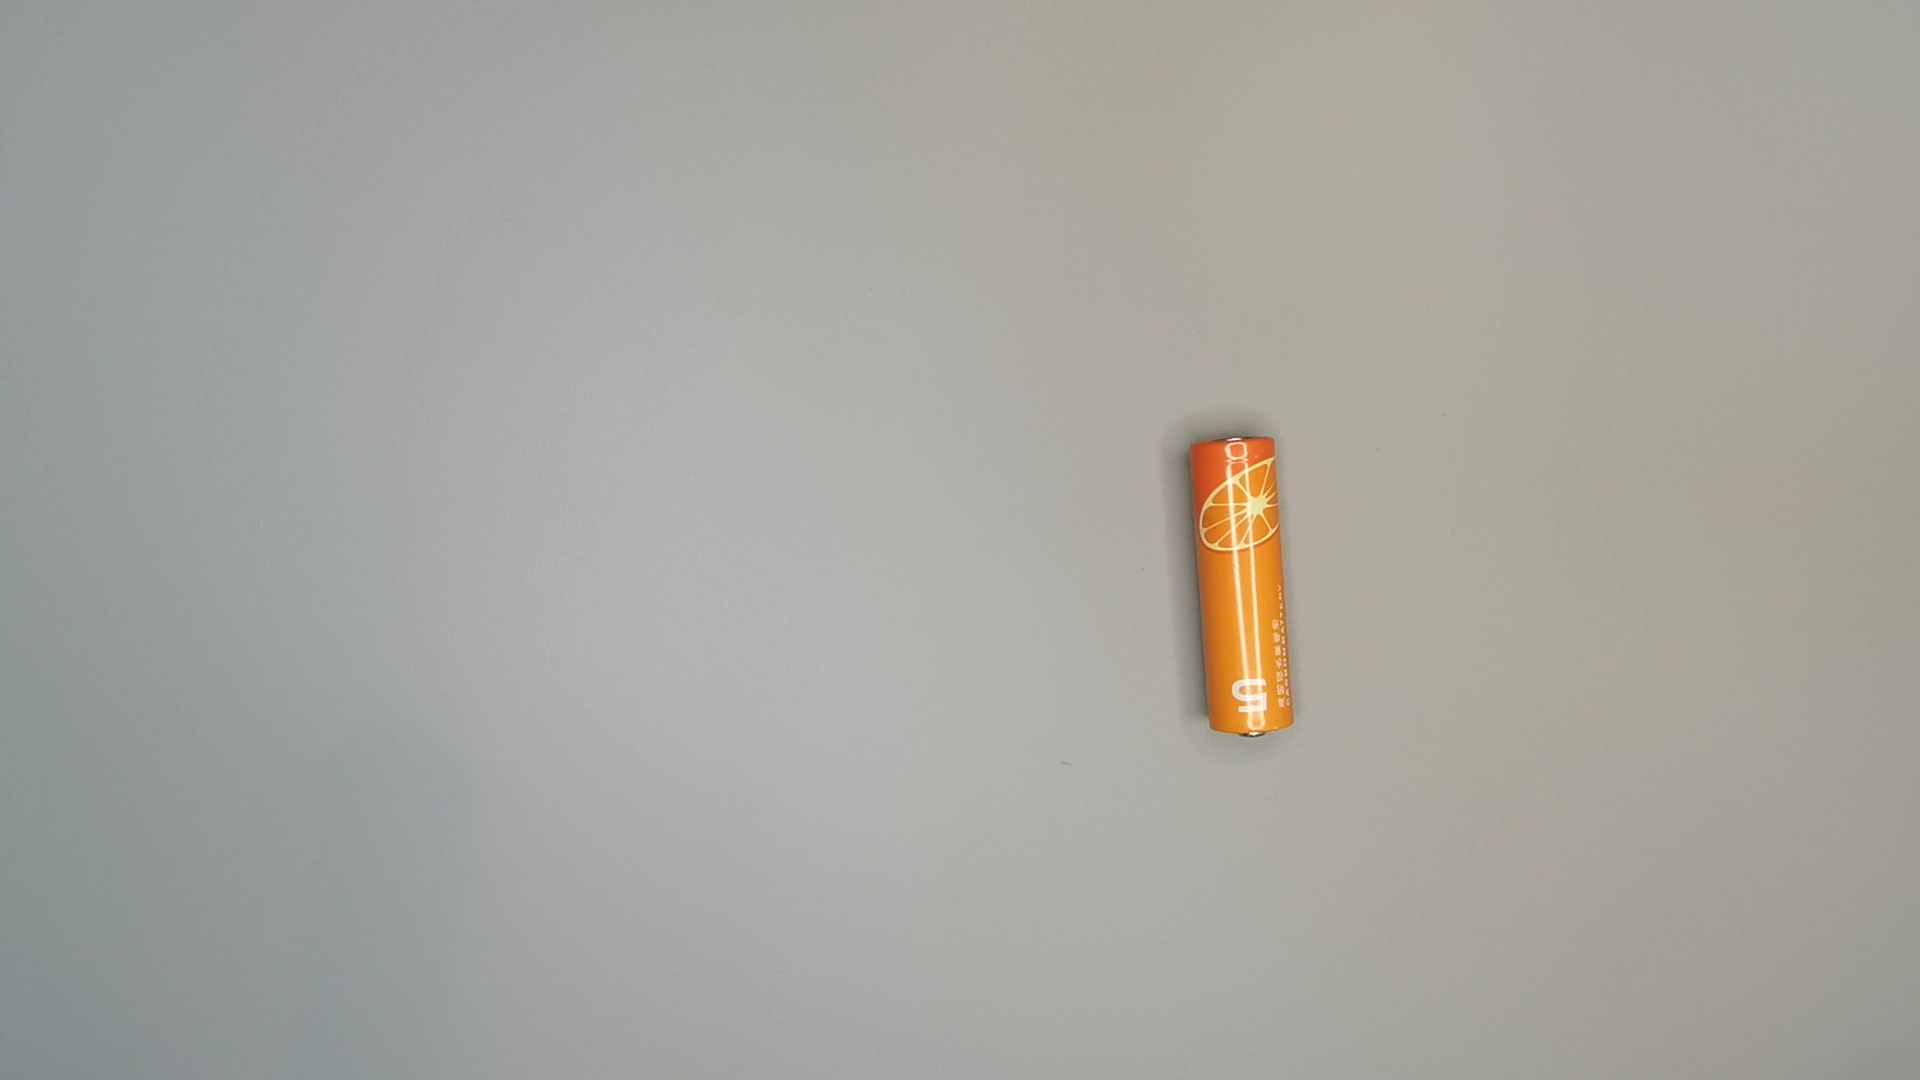battery: (1182, 433, 1311, 742)
